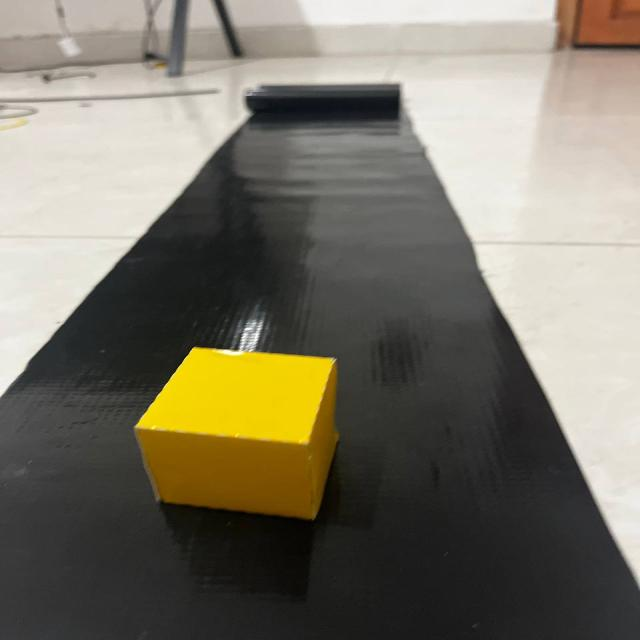Amarillo: (113, 332, 381, 535)
